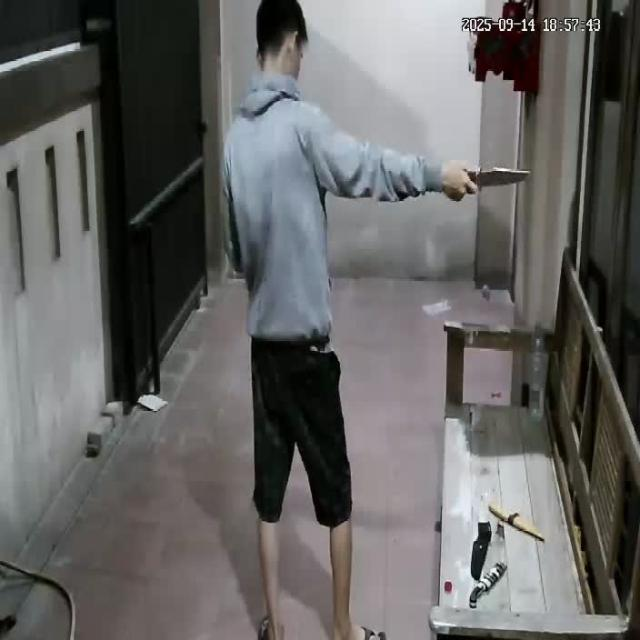senjata_tajam: (466, 163, 533, 190)
